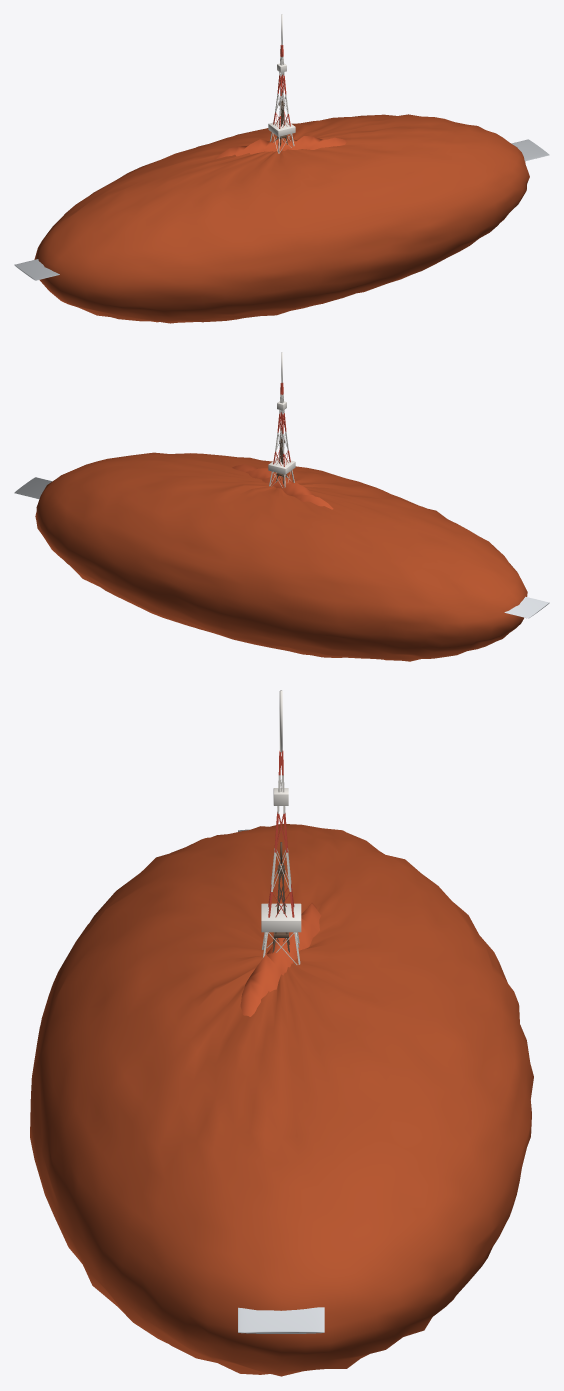
File: kit_monuments.glb
3 views of the same model, one above another, from view 1: azimuth 30°, elevation 25°; view 2: azimuth 150°, elevation 25°; view 3: azimuth 270°, elevation 25° (orthographic). The views are drawn at different scales.
Visible parts, largest first — view 1: uluru, dune, tour_tokyo, terminal; view 2: uluru, tour_tokyo, dune, terminal; view 3: uluru, tour_tokyo, dune, terminal.
Boxes of the visible parts, box(x1,y1,x2,y2) form: uluru: box(34, 114, 529, 323); dune: box(215, 136, 346, 159); tour_tokyo: box(268, 14, 295, 153); terminal: box(14, 139, 549, 280); uluru: box(35, 452, 527, 661); tour_tokyo: box(268, 352, 295, 487); dune: box(232, 464, 333, 509); terminal: box(14, 477, 549, 618); uluru: box(30, 823, 533, 1376); tour_tokyo: box(261, 690, 301, 964); dune: box(240, 903, 321, 1016); terminal: box(238, 829, 324, 1333).
Size of the model in its own units: 711 by 366 by 302.
